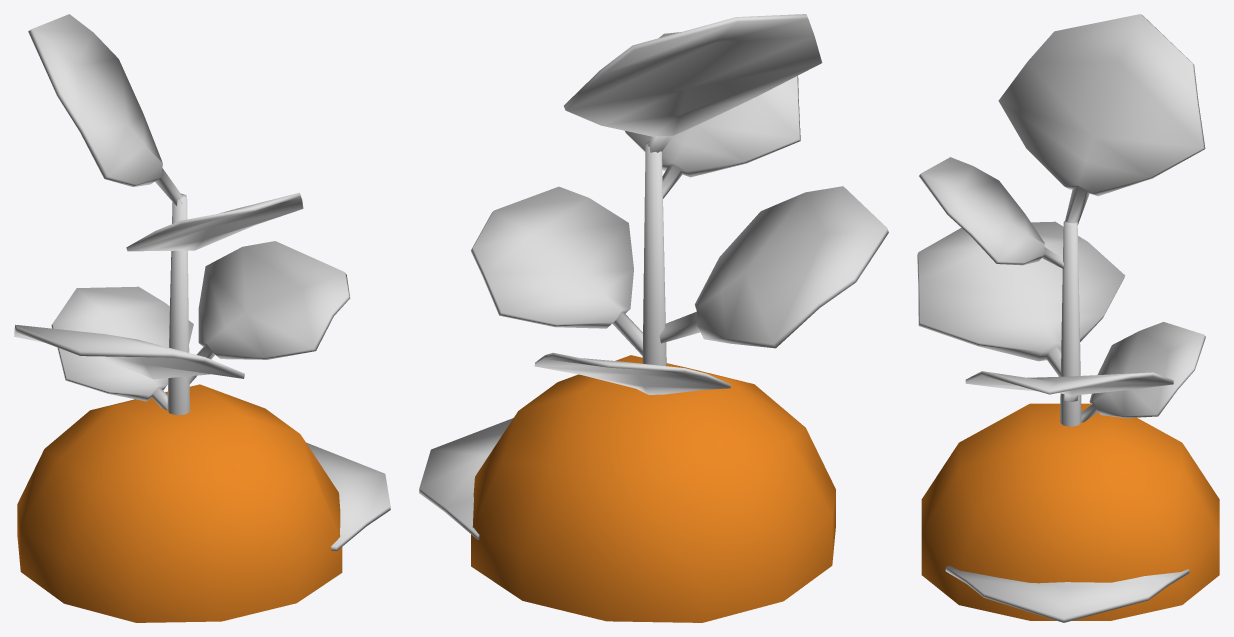
File: Carrot.fbx
3 views of the same model, side by side, from view 1: azimuth 30°, elevation 25°; view 2: azimuth 150°, elevation 25°; view 3: azimuth 270°, elevation 25° (orthographic). The views are drawn at different scales.
Visible parts, largest first — view 1: Carrot, Leaves, Leaf; view 2: Leaves, Carrot, Leaf; view 3: Leaves, Carrot, Leaf.
Boxes of the visible parts, x1,y1,x2,y2 form: Carrot: (17, 384, 342, 622); Leaves: (14, 14, 350, 415); Leaf: (306, 442, 390, 551); Leaves: (471, 14, 888, 394); Carrot: (471, 355, 835, 622); Leaf: (419, 418, 513, 539); Leaves: (917, 14, 1205, 426); Carrot: (921, 403, 1219, 620); Leaf: (945, 565, 1189, 622).
Bounding box in the file's own units: 58.39 × 82.04 × 43.56.
